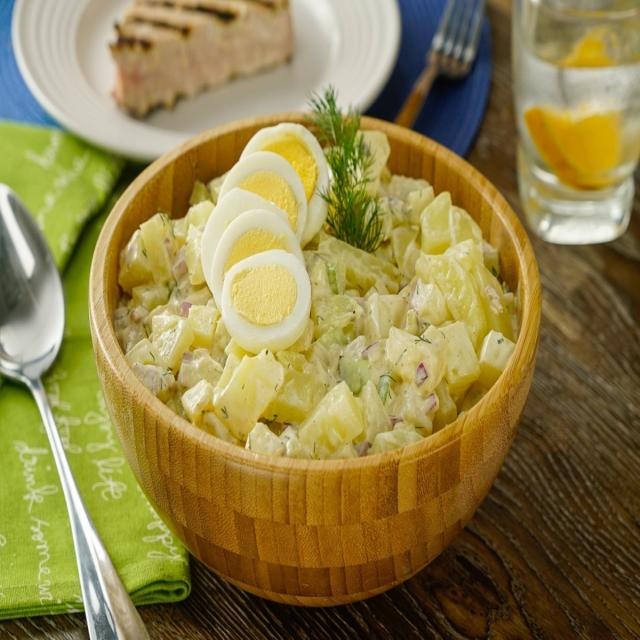huevos: (210, 154, 317, 345)
